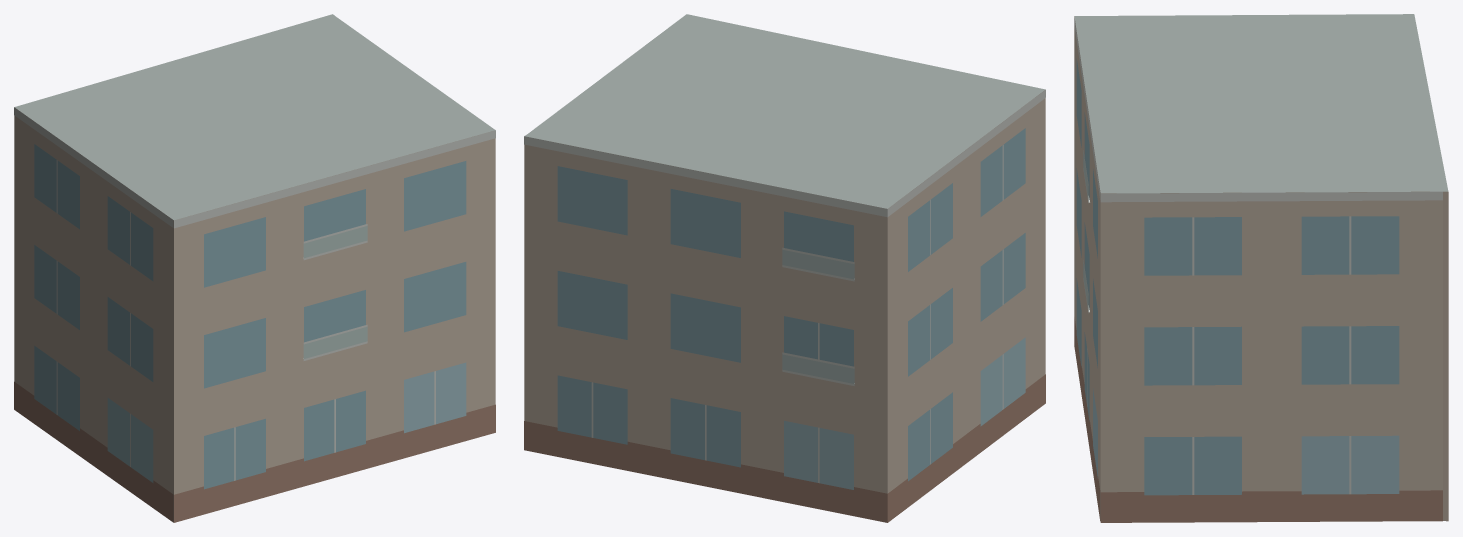
Rendered from survey-upis-32952032.glb.
3 renders of one model, left to right at view 1: azimuth 30°, elevation 25°; view 2: azimuth 150°, elevation 25°; view 3: azimuth 270°, elevation 25°, orthographic. The views are drawn at different scales.
Visible parts, largest first — view 1: survey-upis-32952032.tmp; view 2: survey-upis-32952032.tmp; view 3: survey-upis-32952032.tmp.
Part boxes in pixels (bbox=[...]): survey-upis-32952032.tmp: bbox=[14, 14, 495, 522]; survey-upis-32952032.tmp: bbox=[524, 14, 1045, 522]; survey-upis-32952032.tmp: bbox=[1074, 14, 1448, 522].
Bounding box in the file's own units: 10.7 × 9.15 × 9.43.
